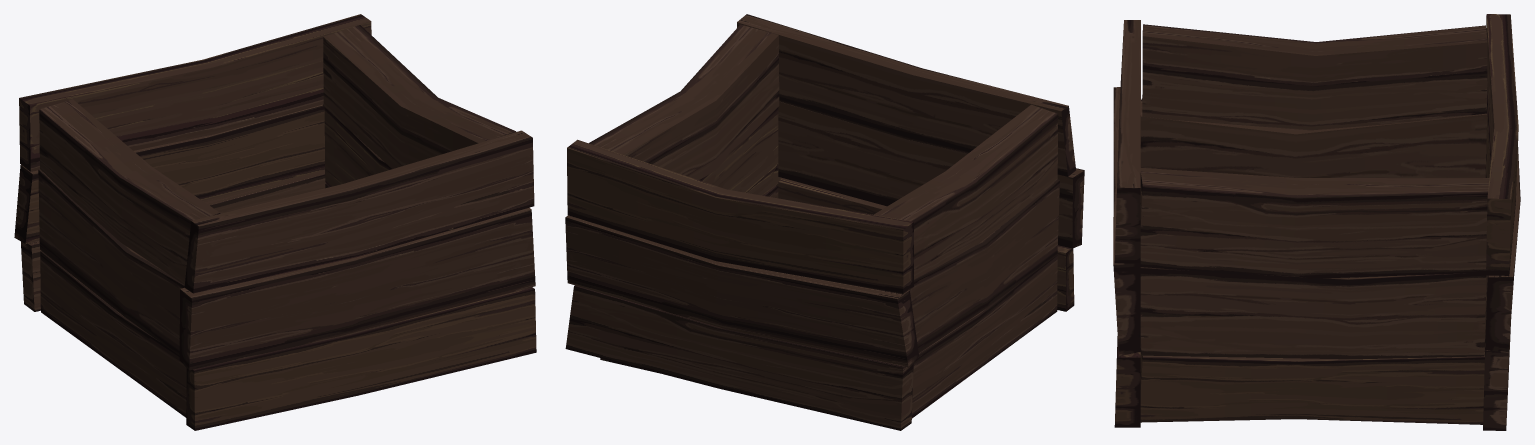
Rendered from SM_PROP_crate_battle_01.fbx.
3 views of the same model, side by side, from view 1: azimuth 30°, elevation 25°; view 2: azimuth 150°, elevation 25°; view 3: azimuth 270°, elevation 25° (orthographic). The views are drawn at different scales.
Parts seen in each view (by area): view 1: SM_PROP_crate_battle_01; view 2: SM_PROP_crate_battle_01; view 3: SM_PROP_crate_battle_01.
Boxes of the visible parts, bbox=[...] form: SM_PROP_crate_battle_01: bbox=[14, 14, 536, 430]; SM_PROP_crate_battle_01: bbox=[565, 14, 1084, 430]; SM_PROP_crate_battle_01: bbox=[1113, 14, 1520, 430].
Size of the model in its own units: 51.76 by 30.92 by 46.81.
